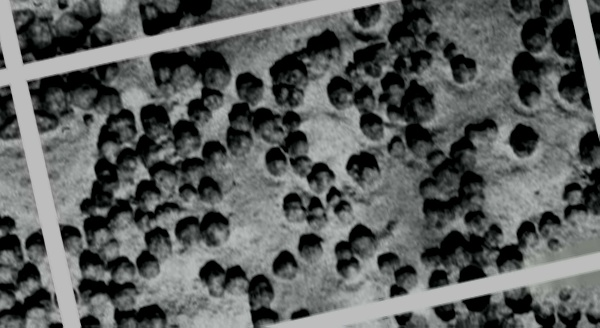halobolite: (147, 40, 203, 99), (260, 42, 302, 98), (298, 22, 342, 68), (189, 17, 224, 68), (346, 48, 391, 86), (16, 12, 52, 55), (156, 184, 187, 229), (115, 124, 148, 165), (563, 66, 591, 113), (235, 88, 264, 133), (117, 65, 153, 101), (345, 150, 379, 188), (200, 209, 231, 250), (78, 59, 112, 96), (445, 138, 479, 175), (126, 185, 159, 223), (145, 85, 176, 125), (104, 252, 140, 285), (530, 59, 561, 97), (223, 49, 253, 88), (395, 34, 425, 73), (465, 118, 498, 153), (568, 129, 600, 165), (106, 91, 136, 129), (295, 234, 328, 268), (555, 10, 587, 45), (346, 223, 378, 258), (96, 188, 123, 229), (444, 167, 480, 197), (397, 119, 429, 152), (14, 230, 48, 261), (52, 18, 82, 53), (93, 140, 122, 176), (423, 171, 455, 203), (72, 268, 102, 302), (250, 270, 278, 306), (174, 214, 201, 251), (279, 162, 309, 195), (171, 112, 200, 146), (451, 284, 480, 318), (136, 248, 167, 279), (425, 199, 455, 231), (327, 76, 355, 110), (119, 304, 158, 328), (343, 92, 371, 125), (402, 10, 440, 34), (529, 18, 554, 54), (78, 34, 107, 65), (79, 213, 108, 244), (7, 290, 40, 317), (565, 183, 589, 220), (54, 222, 83, 252), (222, 263, 250, 294), (267, 194, 291, 230), (511, 124, 538, 156), (451, 53, 476, 86), (497, 242, 521, 276), (47, 243, 79, 268), (298, 205, 326, 233), (354, 1, 383, 28), (557, 297, 583, 327), (200, 260, 225, 291), (375, 83, 406, 108), (516, 220, 541, 251), (161, 151, 187, 180), (209, 80, 235, 109), (384, 132, 410, 161), (558, 40, 585, 67), (380, 251, 406, 279), (536, 210, 561, 239), (82, 9, 113, 32), (265, 123, 291, 150), (152, 125, 174, 156), (7, 264, 32, 291), (111, 166, 141, 188), (336, 255, 363, 279), (172, 67, 193, 96), (264, 147, 287, 173), (263, 97, 285, 123), (273, 256, 299, 277), (414, 65, 435, 91), (535, 304, 559, 326), (188, 61, 212, 82), (399, 307, 423, 328), (293, 190, 311, 212), (141, 154, 160, 173), (333, 241, 352, 260)
